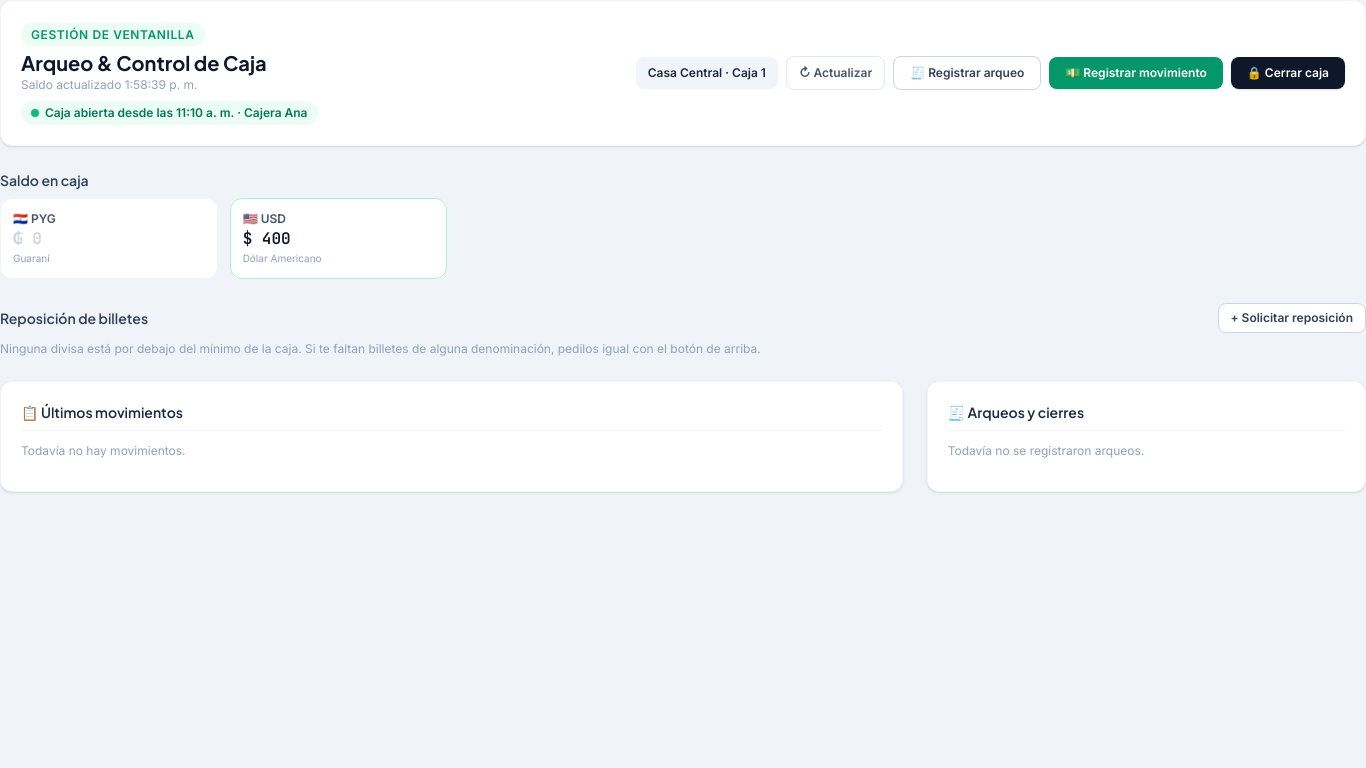
Test: CashCountView · arqueo por total (PI-78) › no deja guardar con un monto inválido
expect the text "$ 400" is shown: met, box [243,228,291,249]
Click the button "🧾 Registrar arqueo": {"x": 967, "y": 73} [893,56,1041,90]
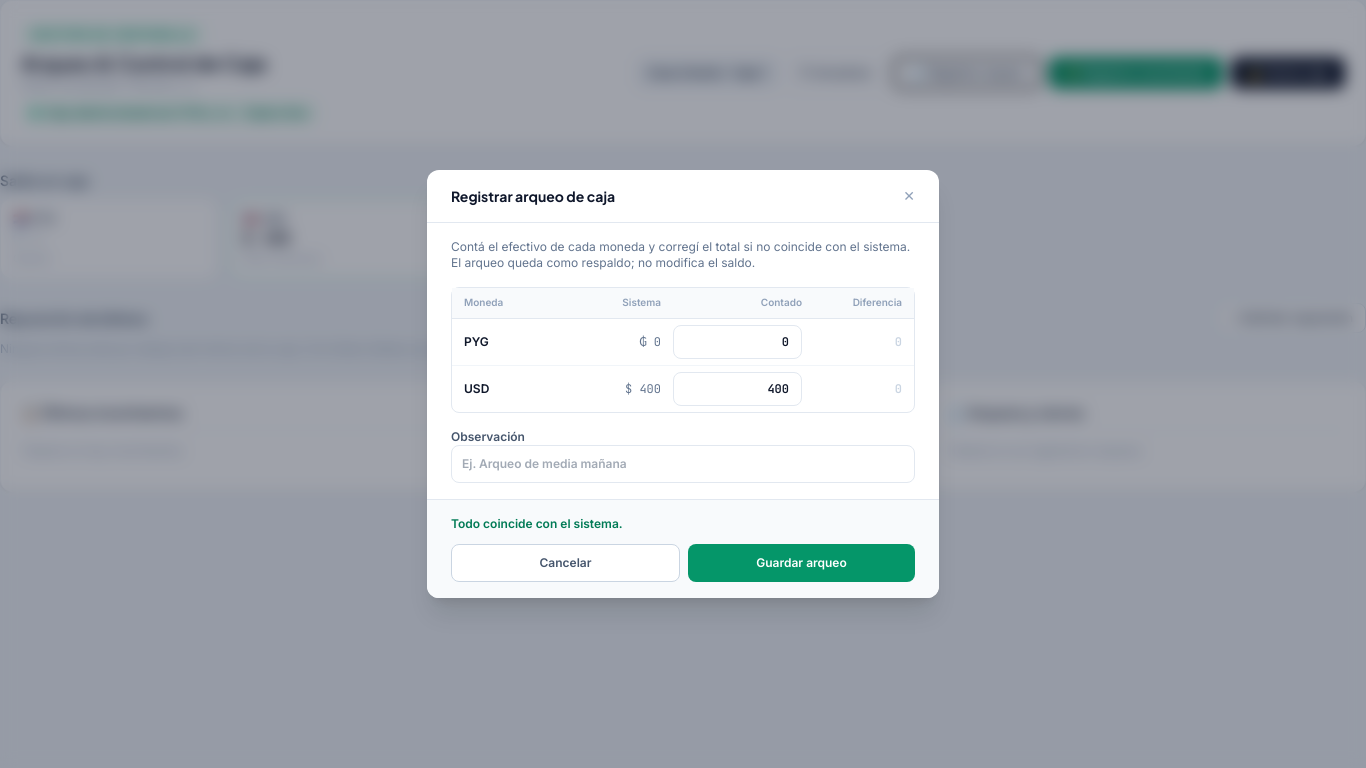
Clear the number field labelled "USD": {"x": 738, "y": 389} [673,372,802,406]
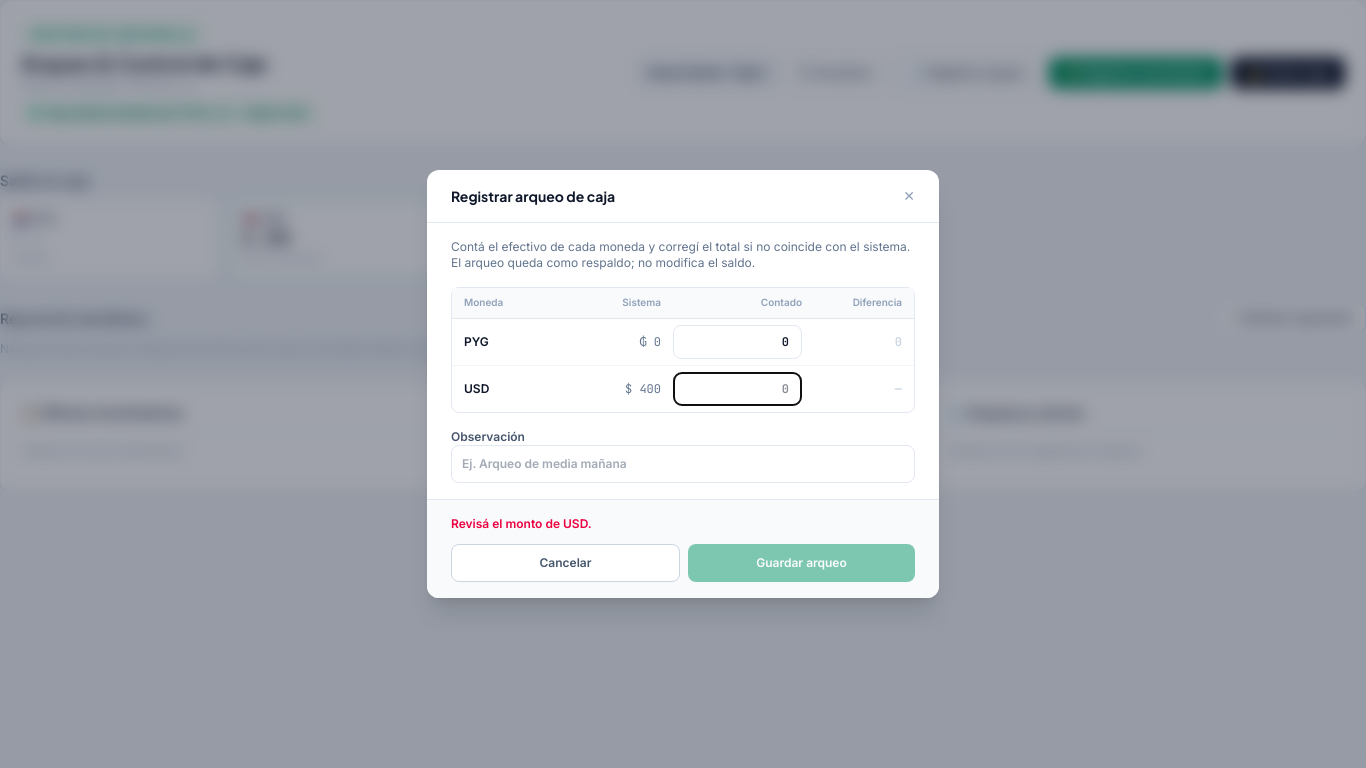
expect the text "Revisá el monto de USD." is shown: met, box [451,516,592,531]
expect the button "Guardar arqueo" is disabled: met, box [688,544,915,582]
